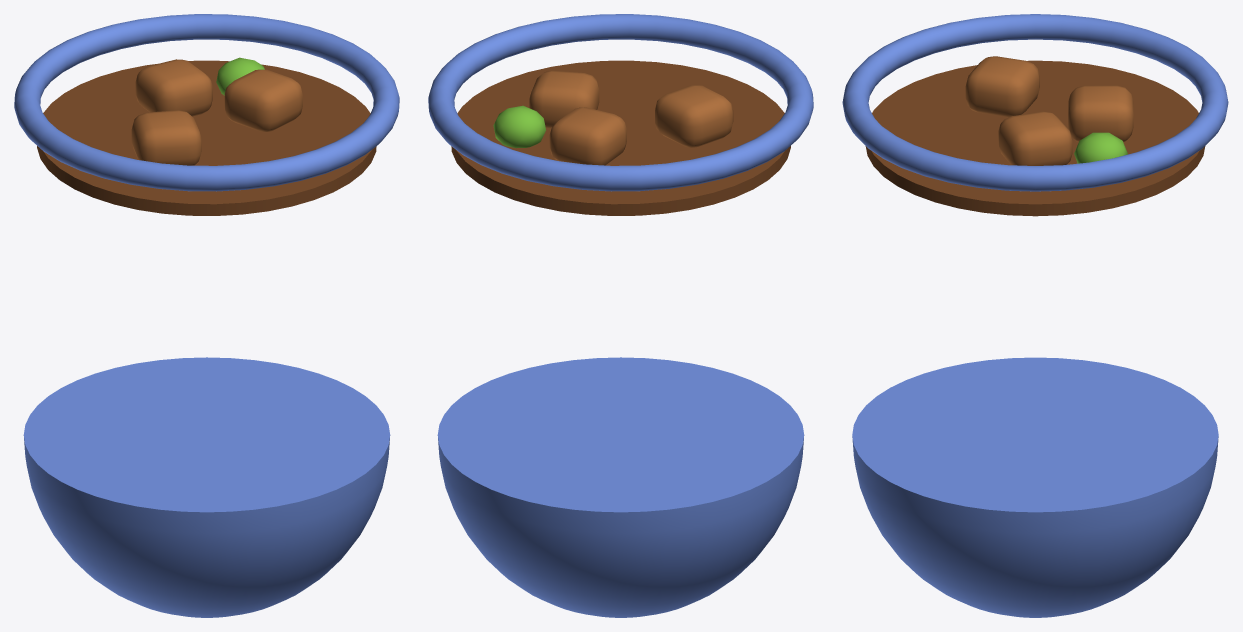
The model's file is dish_stew.glb.
3 renders of one model, left to right at view 1: azimuth 30°, elevation 25°; view 2: azimuth 150°, elevation 25°; view 3: azimuth 270°, elevation 25°, orthographic.
Visible parts, largest first — view 1: bowl, liquid, rim, meat.001, meat.002, meat, pea; view 2: bowl, rim, liquid, meat, meat.002, meat.001, pea; view 3: bowl, liquid, rim, meat, meat.001, meat.002, pea.
Boxes of the visible parts, box(x1,y1,x2,y2) form: bowl: box(23, 357, 390, 617); liquid: box(37, 60, 376, 215); rim: box(14, 14, 399, 191); meat.001: box(224, 69, 302, 131); meat.002: box(135, 59, 212, 116); meat: box(131, 110, 201, 165); pea: box(216, 57, 264, 95); bowl: box(437, 357, 804, 617); rim: box(428, 14, 813, 191); liquid: box(451, 60, 790, 215); meat: box(655, 85, 733, 147); meat.002: box(549, 107, 626, 165); meat.001: box(529, 70, 599, 128); pea: box(493, 105, 545, 148); bowl: box(852, 357, 1218, 617); liquid: box(865, 60, 1205, 216); rim: box(842, 14, 1228, 191); meat: box(965, 56, 1039, 117); meat.001: box(998, 111, 1072, 165); meat.002: box(1068, 85, 1133, 142); pea: box(1074, 132, 1127, 163).
Size of the model in its own units: 0.59 by 0.8595 by 0.59.
